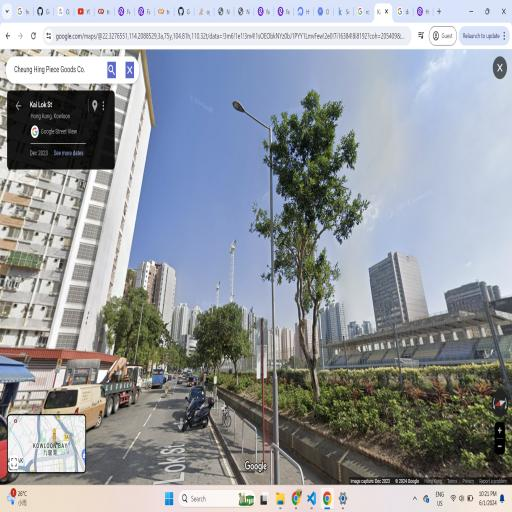Roads: (27, 365, 323, 482)
Trees: (260, 71, 371, 424)
